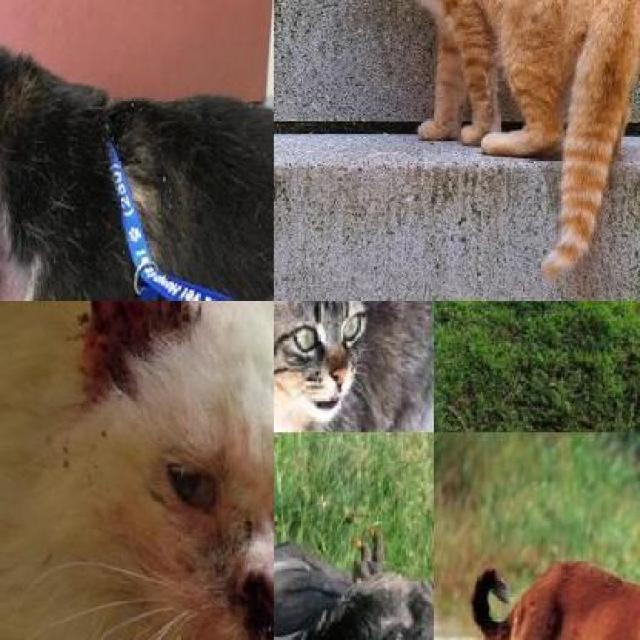buffalo: (274, 521, 434, 640)
cat: (0, 300, 274, 640), (341, 0, 640, 281), (274, 300, 434, 432)
dog: (0, 0, 274, 300), (441, 475, 640, 639)
injured: (69, 300, 205, 432), (223, 537, 274, 640)
